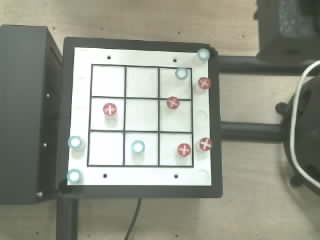blue circle: (67, 169, 81, 183), (68, 136, 81, 149), (131, 140, 144, 152), (198, 48, 210, 60), (175, 68, 187, 79)
board: (68, 48, 211, 185)
cells: (89, 132, 122, 165), (125, 133, 157, 165), (160, 134, 192, 165), (125, 99, 157, 130), (91, 98, 123, 129), (92, 66, 124, 96), (160, 101, 191, 131), (127, 67, 157, 97), (160, 69, 190, 98)
grid: (87, 64, 193, 167)
red cross: (177, 143, 191, 157), (200, 137, 212, 150), (103, 103, 116, 115), (166, 96, 179, 108), (198, 77, 211, 88)
